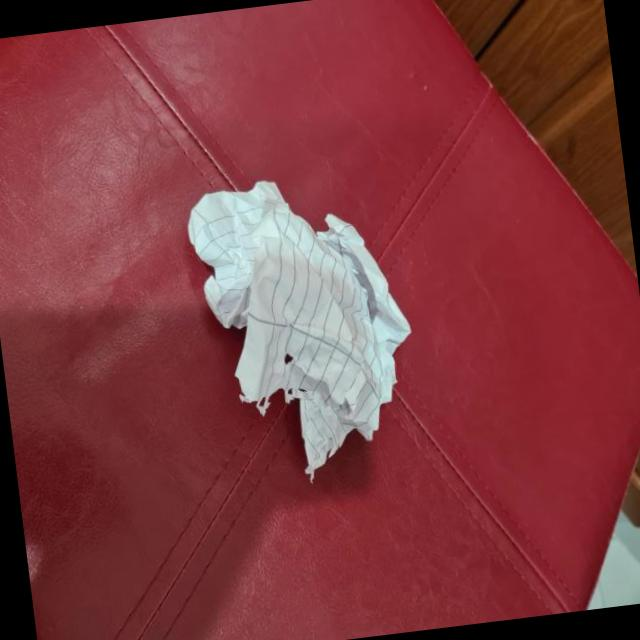cardboard paper: (186, 177, 414, 478)
